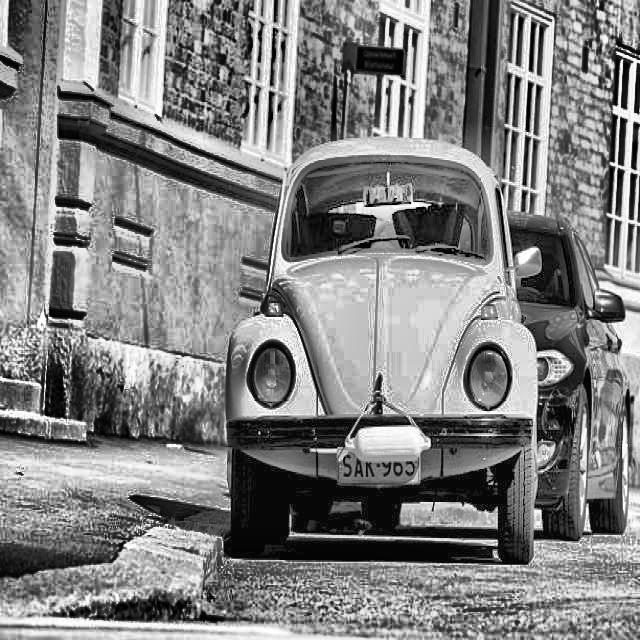carro: (225, 138, 538, 554), (457, 190, 640, 524)
